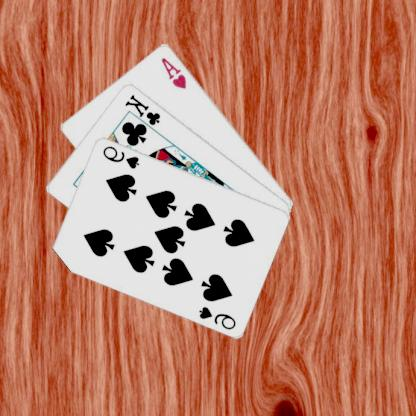9S: (101, 143, 143, 170), (198, 303, 238, 331)
AH: (160, 54, 190, 90)
KC: (124, 91, 164, 134)
